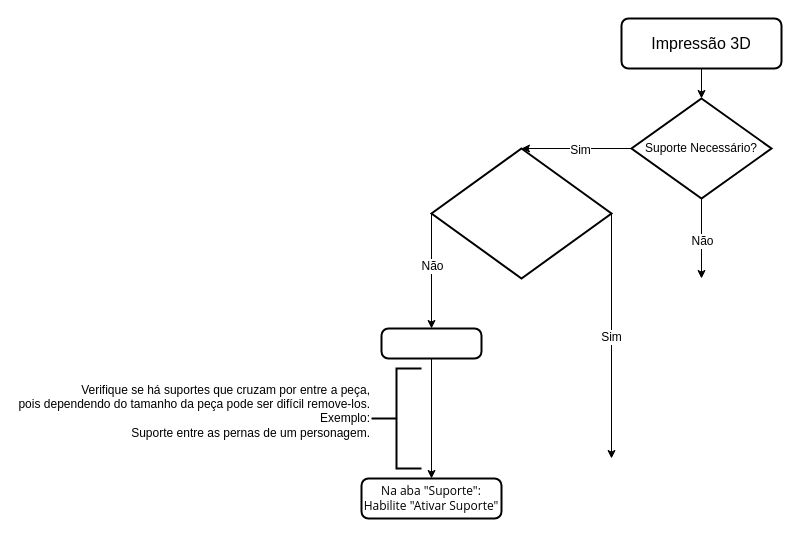
Some shapes in this 799 by 544 pixel diagram are drawn without their labels. Here are the shapes that lost their labels. From the top down, the centre of each, then its label:
(x=521, y=213): É possível cortar a peça para remover a necessidade de suporte?
(x=431, y=343): Faça o corte
